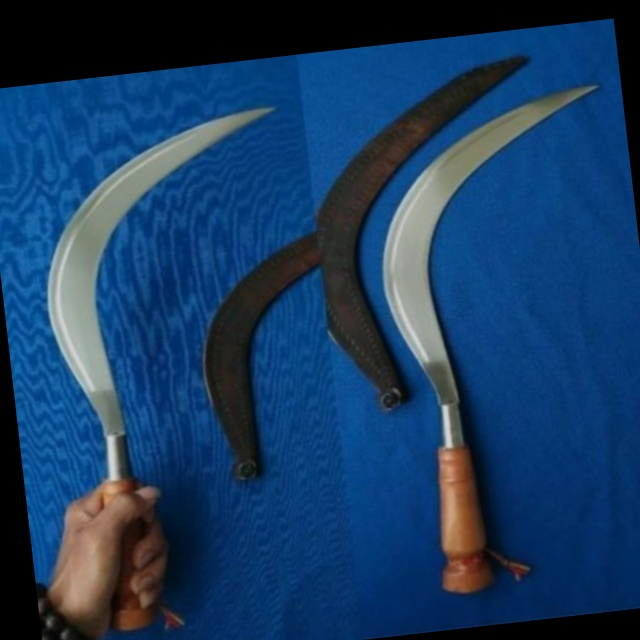Sharp-Object: (21, 91, 336, 640), (361, 90, 640, 610)
